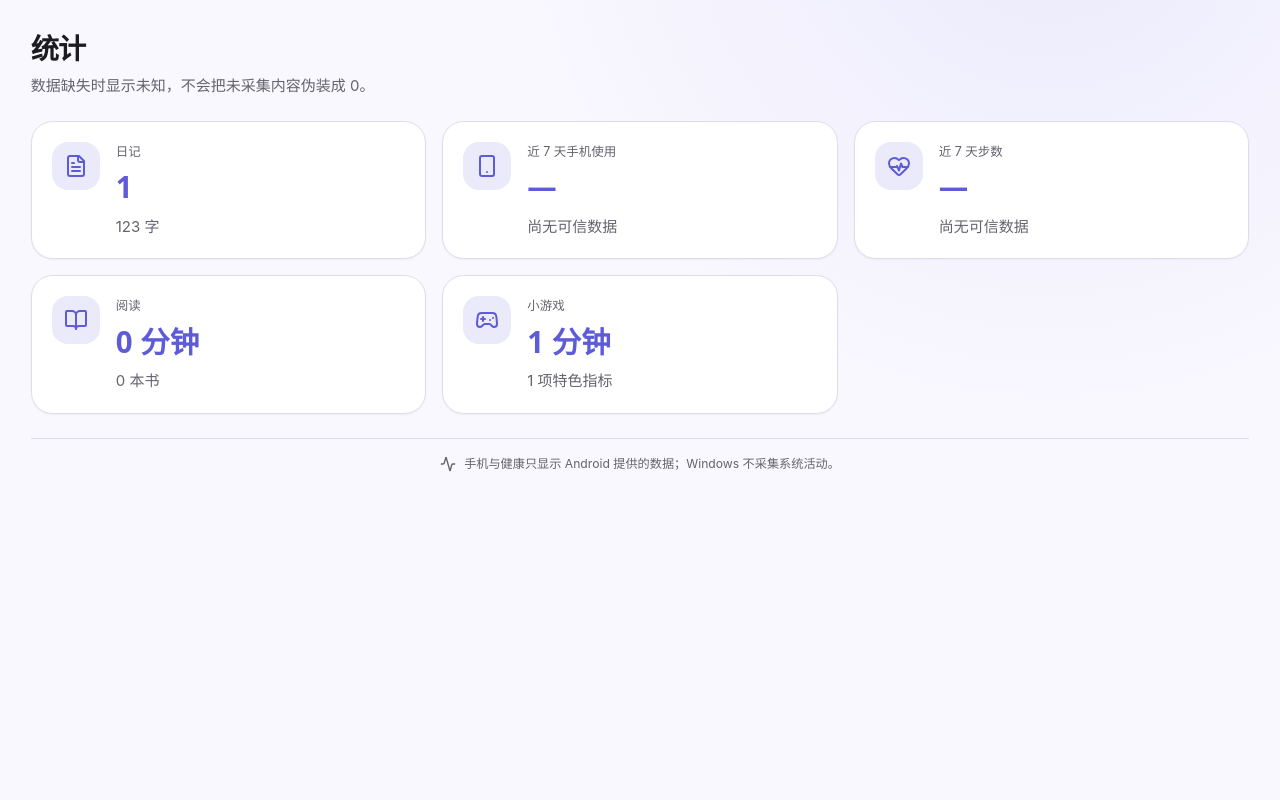
it: StatsPage › shows Go capture and lifetime metrics as private local statistics
The image size is (1280, 800).
Click the button "小游戏 1 分钟 1 项特色指标": (487, 320) [442, 275, 838, 414]
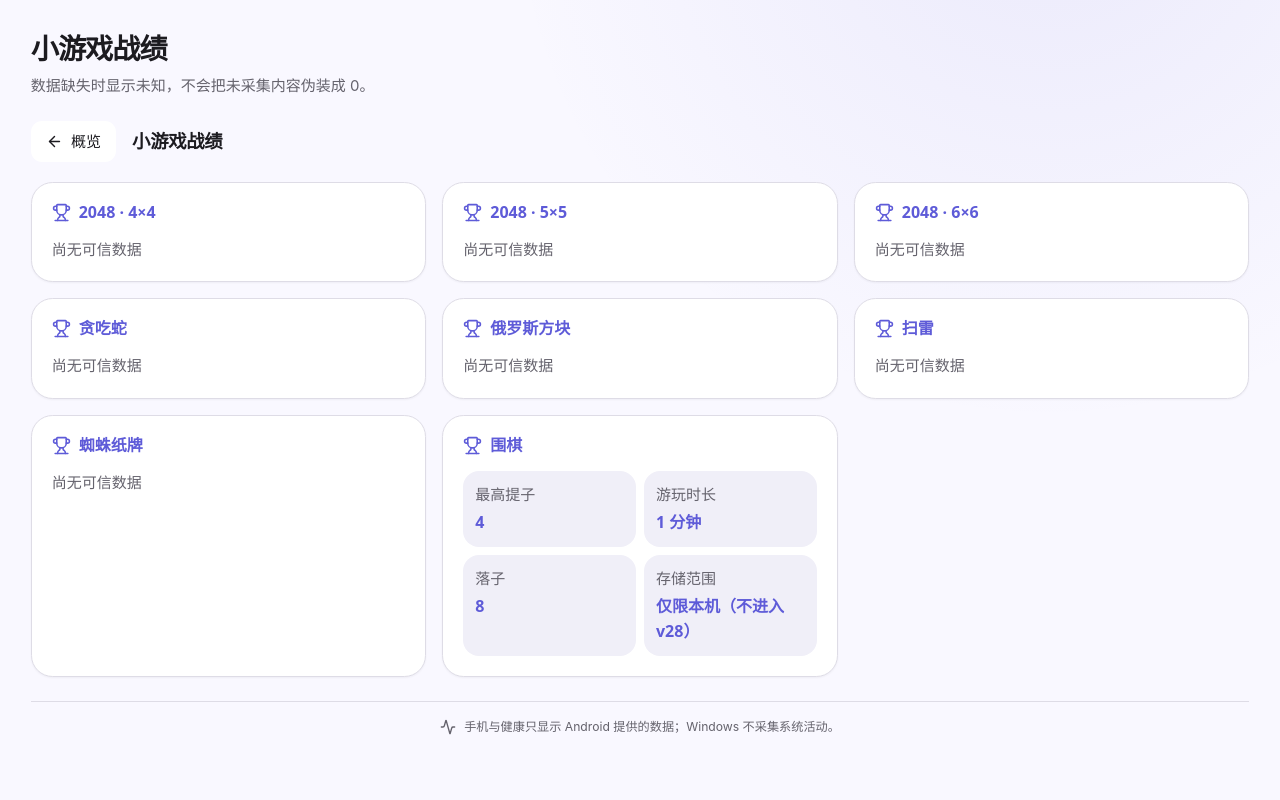
Result: the heading "围棋" is shown at [490, 436, 522, 455]
Result: the text "最高提子" is shown at [475, 485, 535, 504]
Result: the text "落子" is shown at [475, 569, 505, 588]
